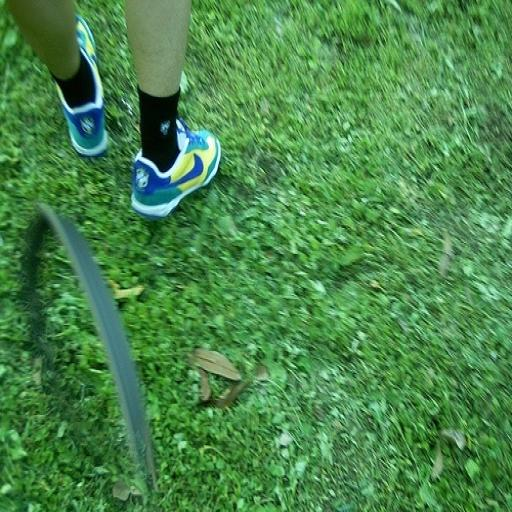shoe: (131, 120, 221, 219), (56, 15, 108, 157)
